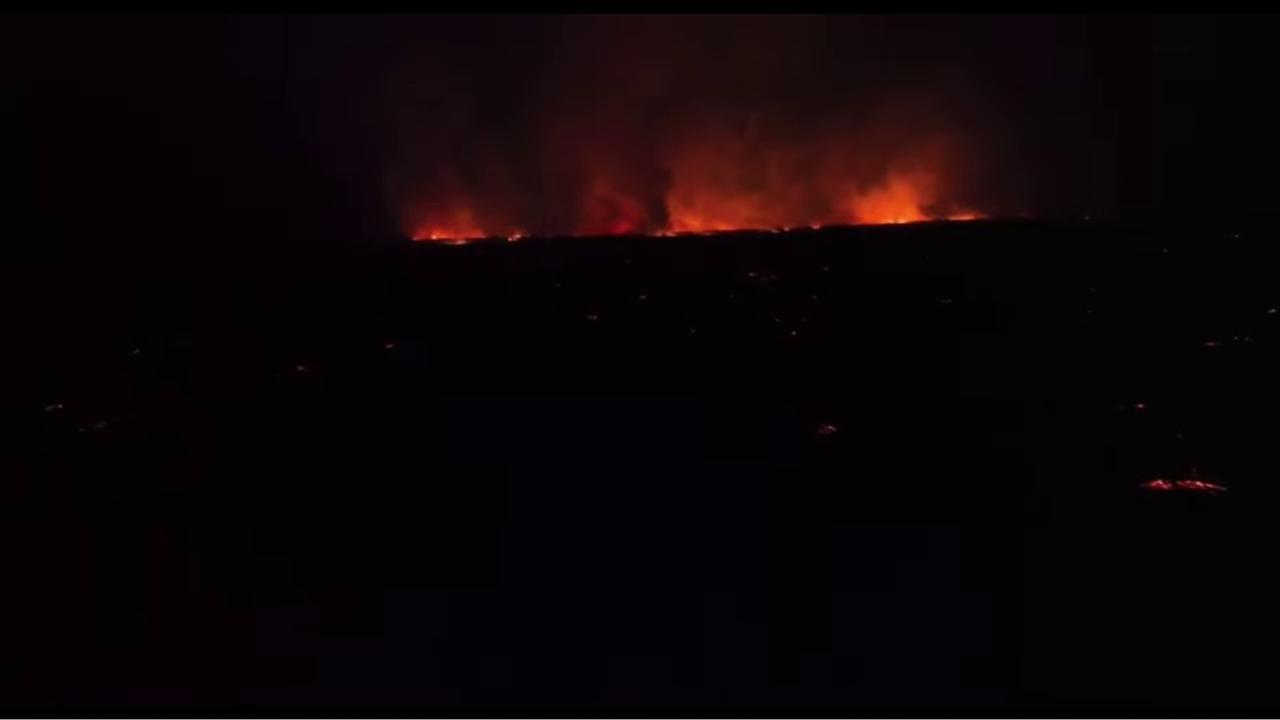fire: (862, 176, 932, 223), (1138, 476, 1229, 495), (682, 212, 740, 235), (409, 230, 487, 246), (946, 212, 976, 222), (816, 423, 838, 436), (644, 230, 679, 238), (506, 231, 523, 244), (1200, 339, 1226, 347), (581, 313, 600, 321), (382, 342, 397, 351), (810, 222, 823, 230), (747, 271, 761, 278), (294, 365, 306, 372), (1136, 403, 1146, 410), (783, 224, 791, 232), (638, 294, 648, 300), (790, 330, 799, 336)
smoke: (222, 18, 1157, 248)
